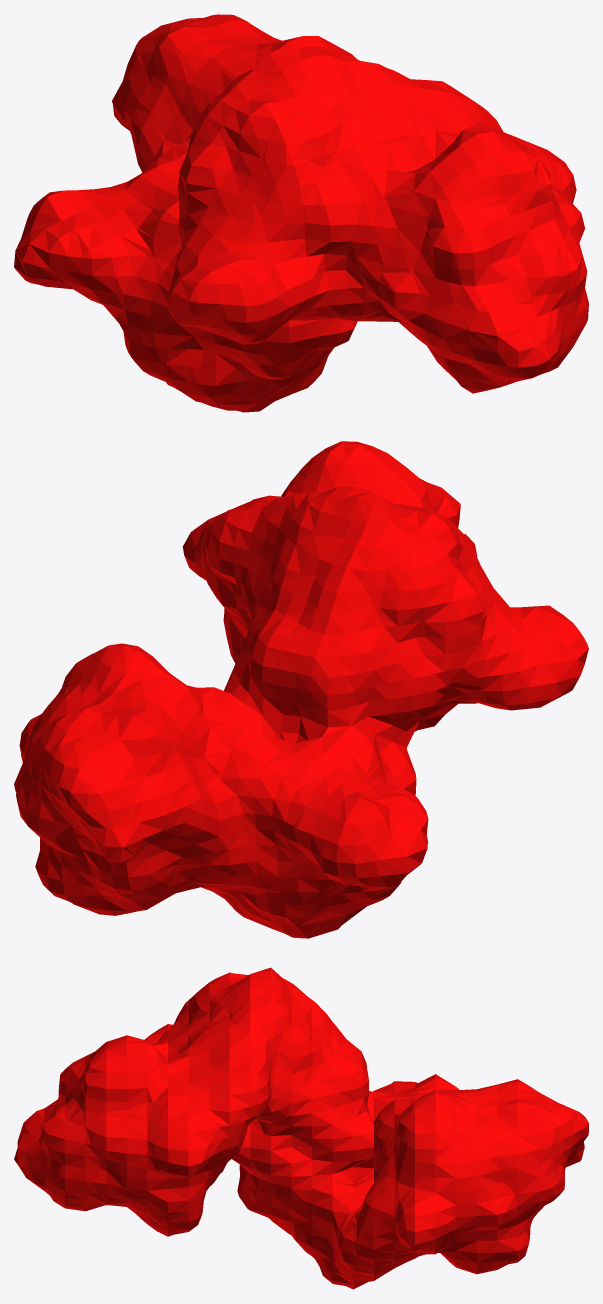
Rendered from pyrG_coarse.dae.
3 renders of one model, top to bottom at view 1: azimuth 30°, elevation 25°; view 2: azimuth 150°, elevation 25°; view 3: azimuth 270°, elevation 25°, orthographic. The views are drawn at different scales.
Parts seen in each view (by area): view 1: pyrG; view 2: pyrG; view 3: pyrG.
Boxes of the visible parts, x1,y1,x2,y2 form: pyrG: (14, 14, 588, 412); pyrG: (14, 441, 588, 938); pyrG: (14, 967, 588, 1289).
Size of the model in its own units: 85.93 by 80.47 by 137.
